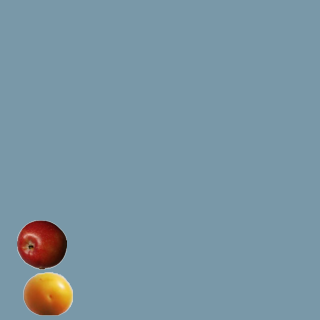Apple Braeburn: (16, 219, 66, 269)
Cherry Wax Yellow: (22, 268, 72, 318)
